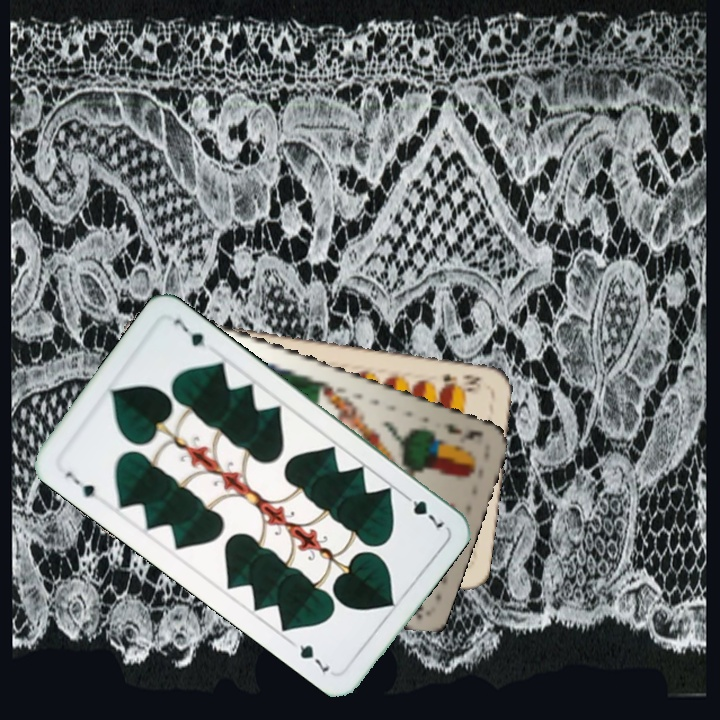E10: (438, 370, 484, 396)
EK: (440, 419, 486, 442)
G7: (397, 488, 448, 532), (61, 467, 98, 500)
